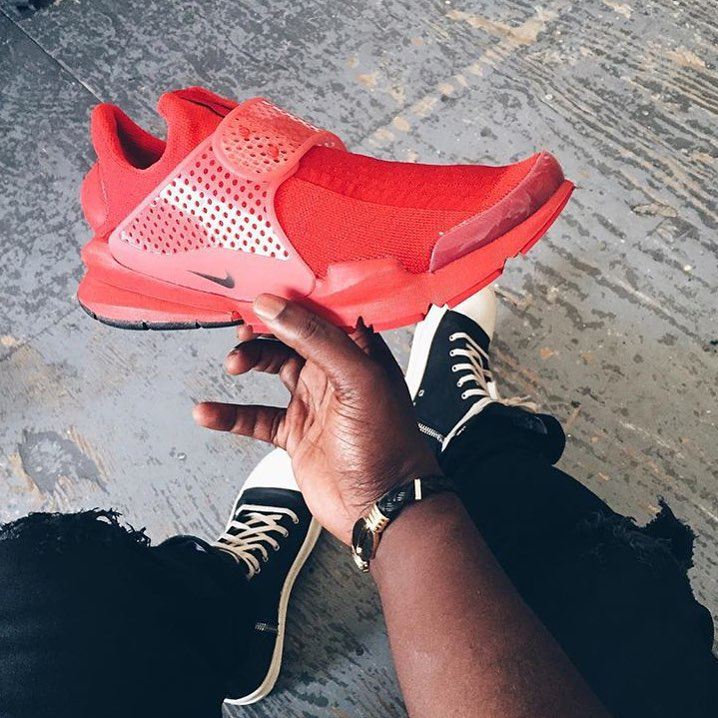sneaker: (125, 428, 339, 715), (394, 281, 564, 490)
